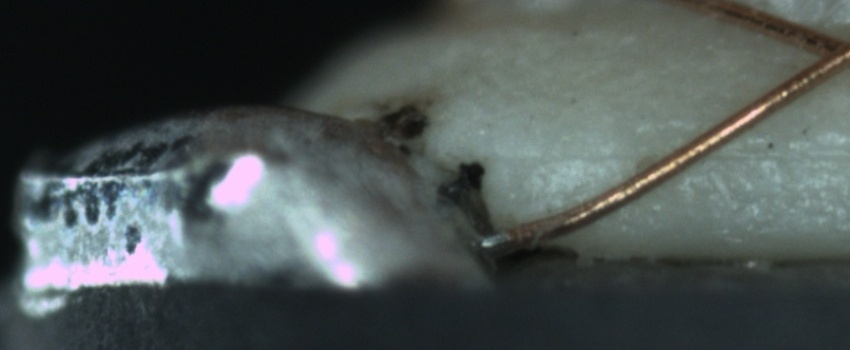CL: (795, 20, 849, 81)
DL: (518, 123, 850, 185)
TS: (475, 225, 512, 253)
